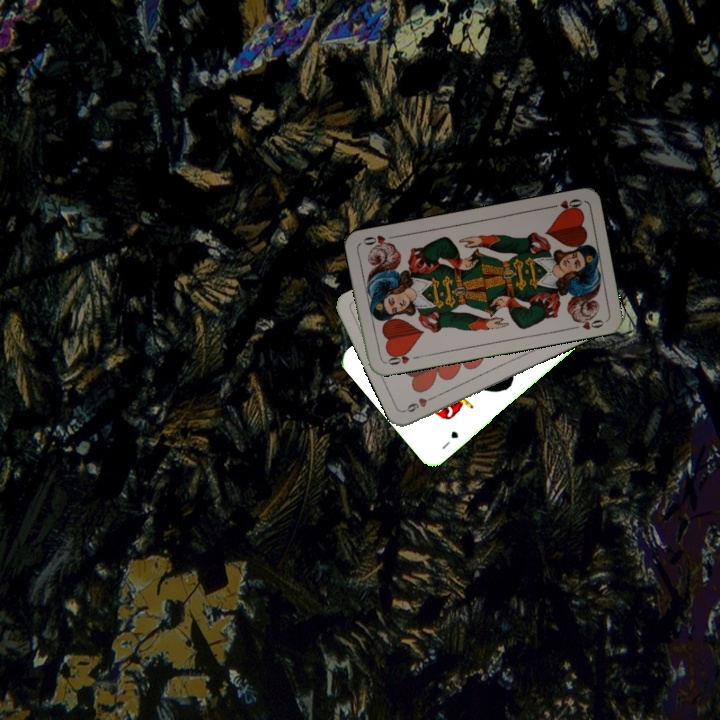GU: (438, 427, 461, 452)
H9: (401, 391, 439, 415)
HO: (381, 347, 422, 368), (544, 195, 584, 215)
